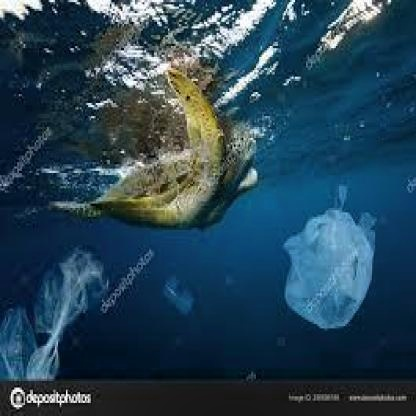pbag: (270, 182, 388, 335), (28, 243, 110, 379), (2, 293, 36, 379)
pbottle: (155, 271, 204, 322)
